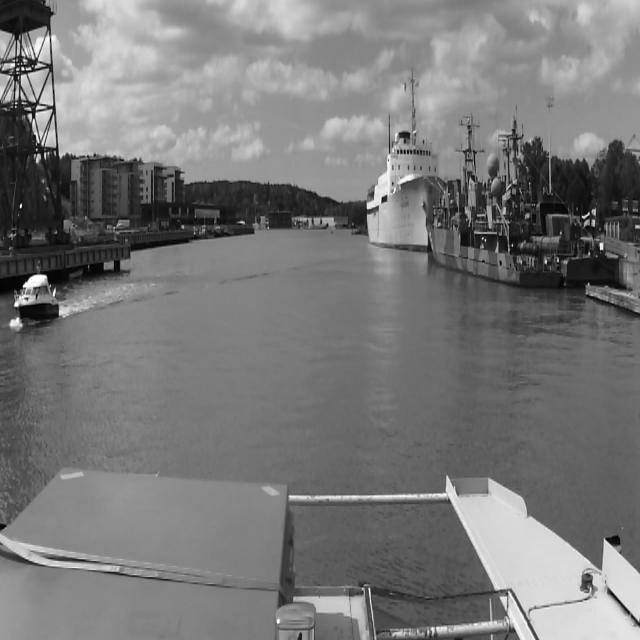ship: (424, 106, 616, 286), (367, 65, 421, 249), (14, 263, 64, 323)
